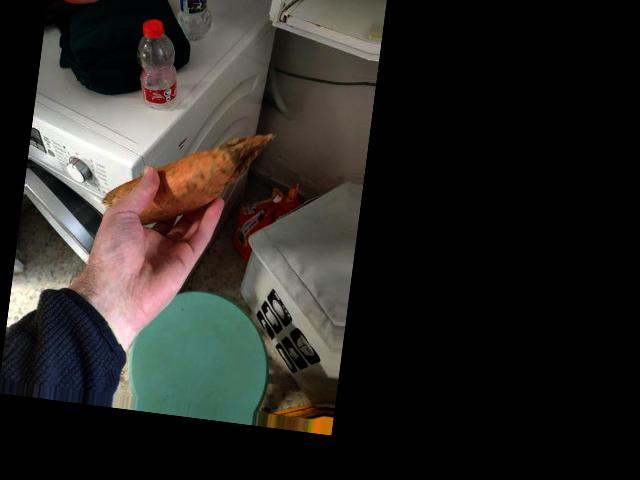sweet_potato: (127, 141, 232, 229)
